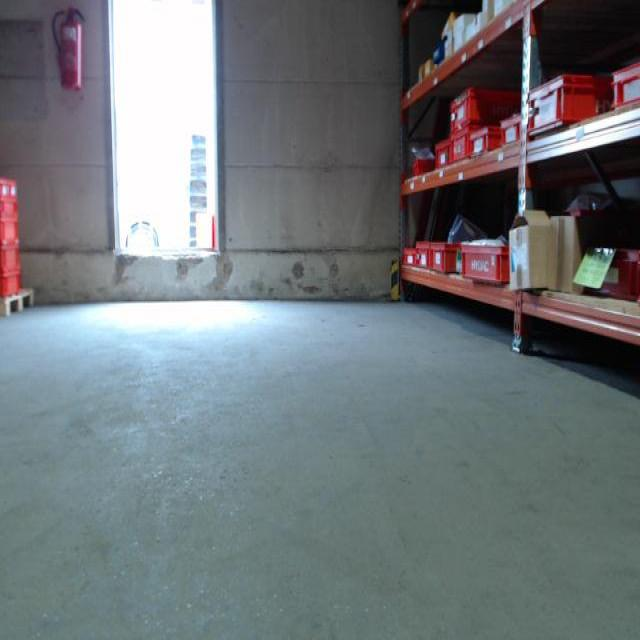pallet: (0, 288, 36, 316)
small_load_carrier: (529, 70, 615, 139), (448, 88, 519, 129), (460, 240, 514, 287), (590, 252, 638, 303), (610, 59, 639, 119), (469, 121, 505, 161), (426, 241, 460, 275), (453, 126, 478, 172), (498, 113, 527, 142), (1, 273, 22, 301), (2, 245, 20, 274), (398, 245, 418, 271), (431, 138, 450, 165), (411, 156, 434, 177), (1, 179, 22, 200), (4, 221, 20, 246), (416, 237, 426, 276), (1, 200, 18, 220)
